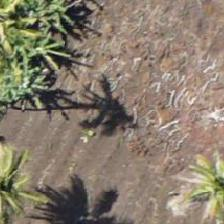coconut_tree: (171, 136, 223, 223)
